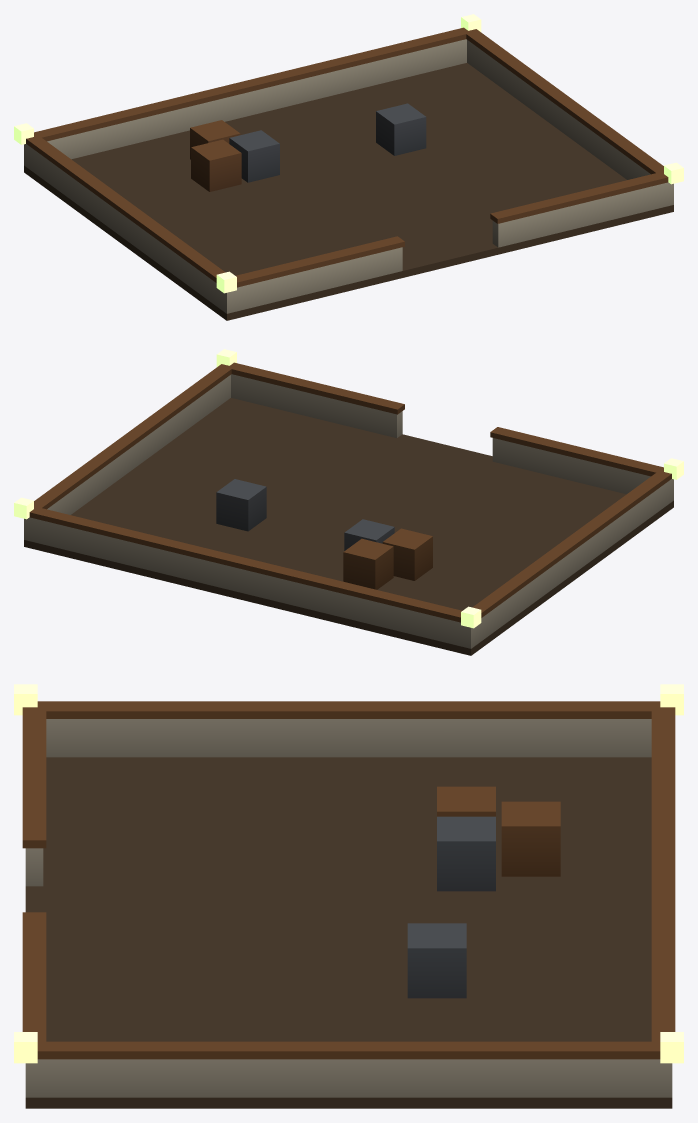
Rendered from shaddai_dist_meadow_b3_v01.glb.
3 renders of one model, top to bottom at view 1: azimuth 30°, elevation 25°; view 2: azimuth 150°, elevation 25°; view 3: azimuth 270°, elevation 25°, orthographic. The views are drawn at different scales.
Visible parts, largest first — view 1: shaddai_dist_meadow_b3; view 2: shaddai_dist_meadow_b3; view 3: shaddai_dist_meadow_b3.
Boxes of the visible parts, x1,y1,x2,y2 form: shaddai_dist_meadow_b3: (14, 14, 683, 320); shaddai_dist_meadow_b3: (14, 349, 683, 655); shaddai_dist_meadow_b3: (14, 684, 683, 1108).
Bounding box in the file's own units: 28.8 × 2.7 × 22.8.
